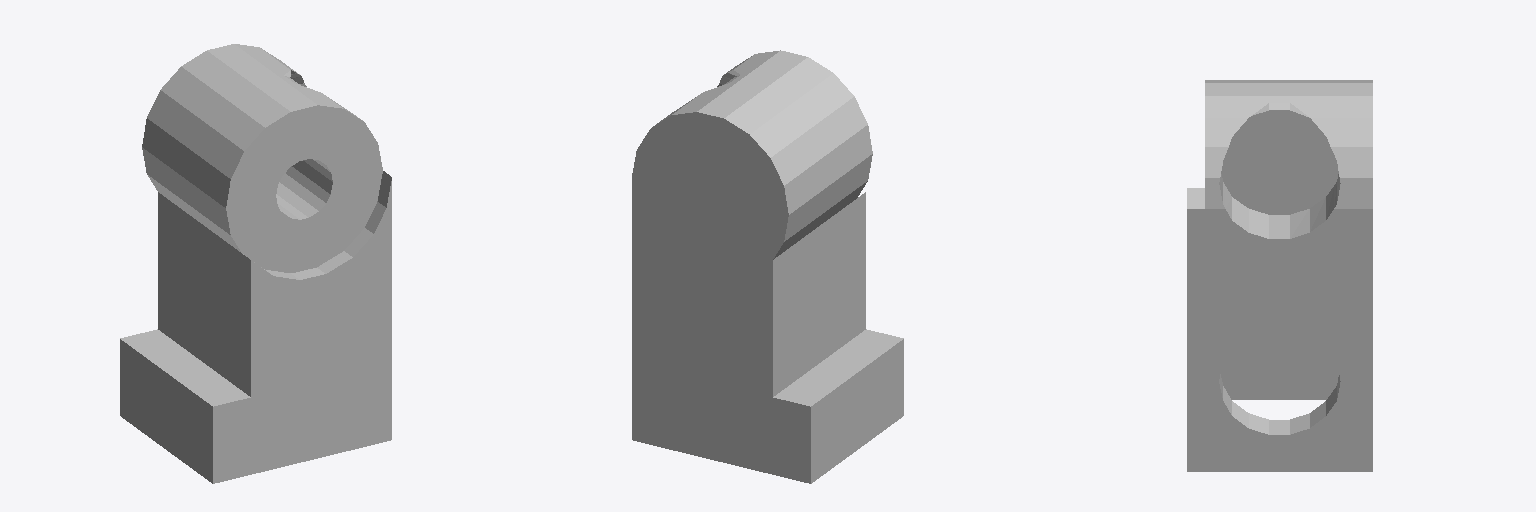
The model's file is LeoDart_right_leg.obj.
3 renders of one model, left to right at view 1: azimuth 30°, elevation 25°; view 2: azimuth 150°, elevation 25°; view 3: azimuth 270°, elevation 25°, orthographic.
Parts seen in each view (by area): view 1: Leg1; view 2: Leg1; view 3: Leg1.
Boxes of the visible parts, <box> form: Leg1: <box>120,44,391,483</box>; Leg1: <box>632,50,903,483</box>; Leg1: <box>1187,80,1372,471</box>.
Bounding box in the file's own units: 0.8001 × 1.47 × 0.72.